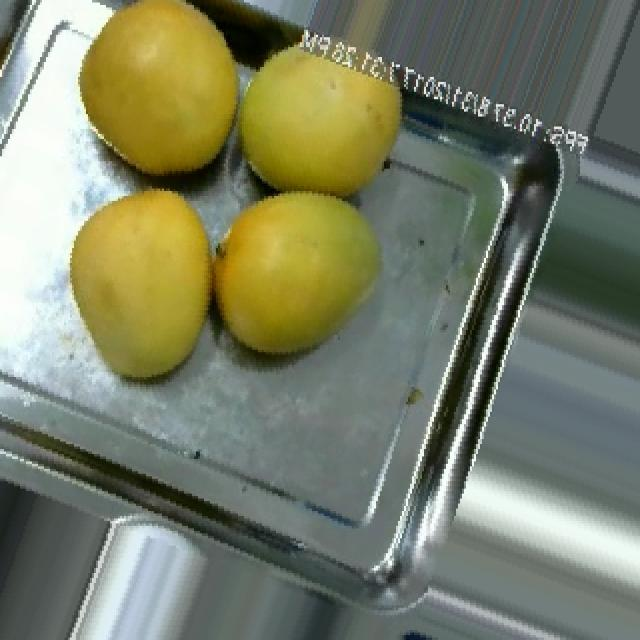fruit: (18, 146, 264, 412), (176, 142, 422, 404), (50, 0, 260, 203), (206, 27, 418, 221)
